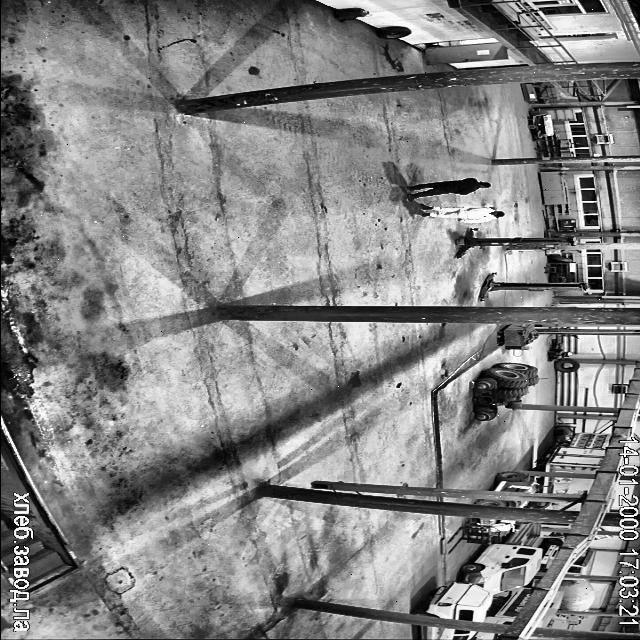car: (412, 581, 492, 621), (423, 626, 476, 640)
car lift: (455, 228, 576, 257), (479, 275, 588, 300)
fire extinguisher: (334, 8, 368, 21), (535, 245, 558, 251)
mechanic: (407, 178, 491, 200), (420, 204, 504, 223)
truck: (460, 524, 541, 593), (533, 432, 612, 475), (484, 588, 532, 624), (557, 578, 594, 610), (495, 471, 542, 496), (540, 476, 594, 494), (537, 592, 562, 627), (477, 518, 527, 535), (567, 548, 594, 574), (476, 499, 551, 508), (540, 537, 563, 565), (464, 524, 486, 542), (556, 616, 585, 624), (476, 632, 498, 640), (572, 504, 580, 509), (532, 473, 534, 475)
